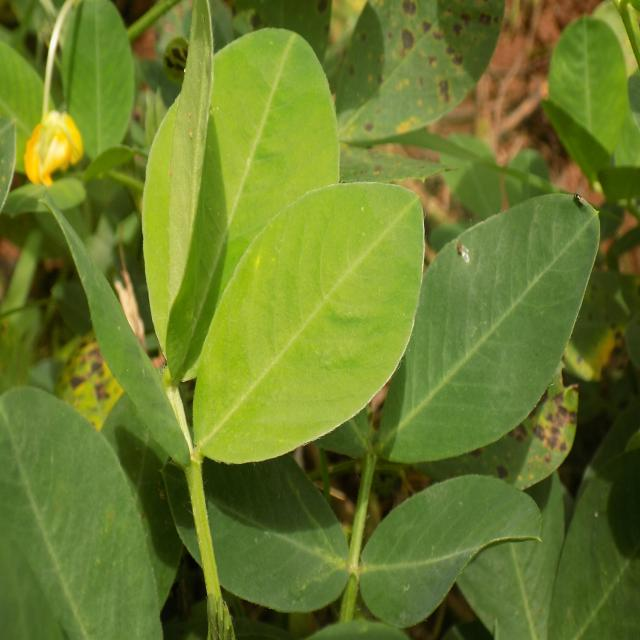Ground nut_healthy: (137, 30, 339, 367), (190, 181, 426, 461), (373, 204, 598, 463), (158, 446, 357, 606)
